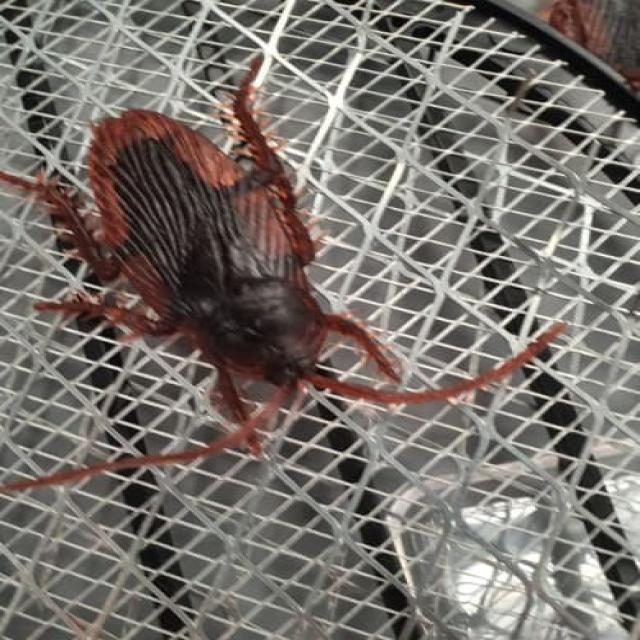Cockroach: (0, 37, 565, 492)
